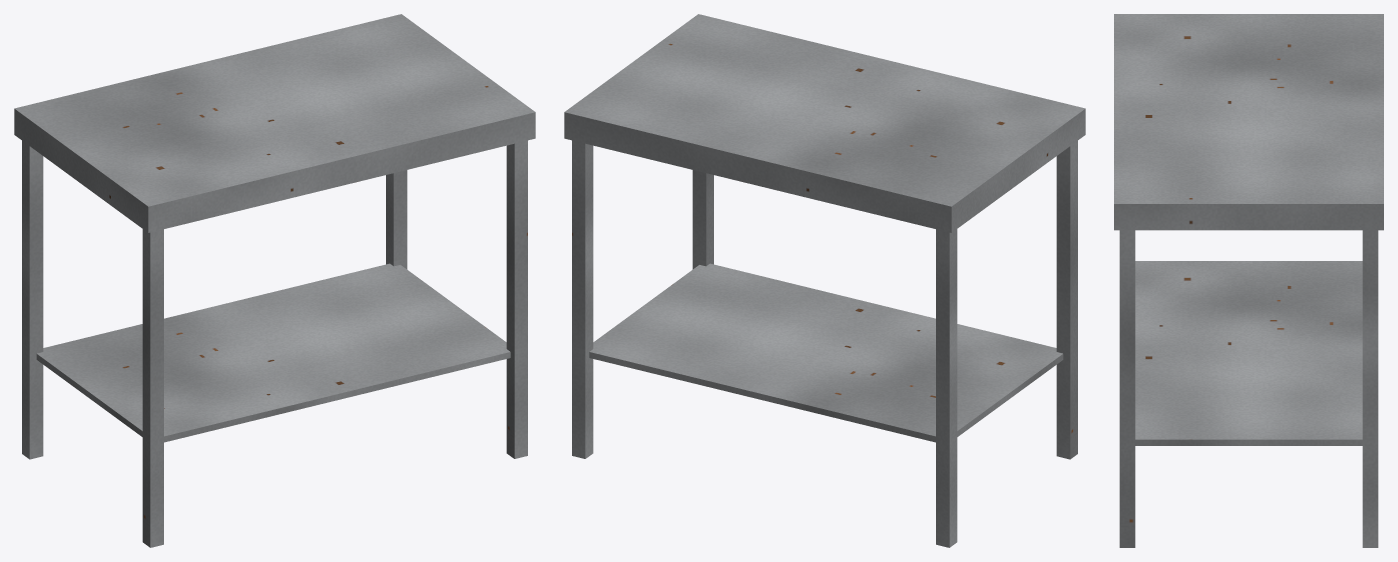
Rendered from Table_Steel.fbx.
The picture shows the model from 3 angles, left to right: view 1: azimuth 30°, elevation 25°; view 2: azimuth 150°, elevation 25°; view 3: azimuth 270°, elevation 25°; orthographic projection.
Visible parts, largest first — view 1: стол метллический; view 2: стол метллический; view 3: стол метллический.
Boxes of the visible parts, x1,y1,x2,y2 form: стол метллический: [14, 14, 535, 547]; стол метллический: [564, 14, 1085, 547]; стол метллический: [1114, 14, 1383, 547].
Bounding box in the file's own units: 1 × 0.85 × 0.6.
Materials: 1 (1 with a texture image).
